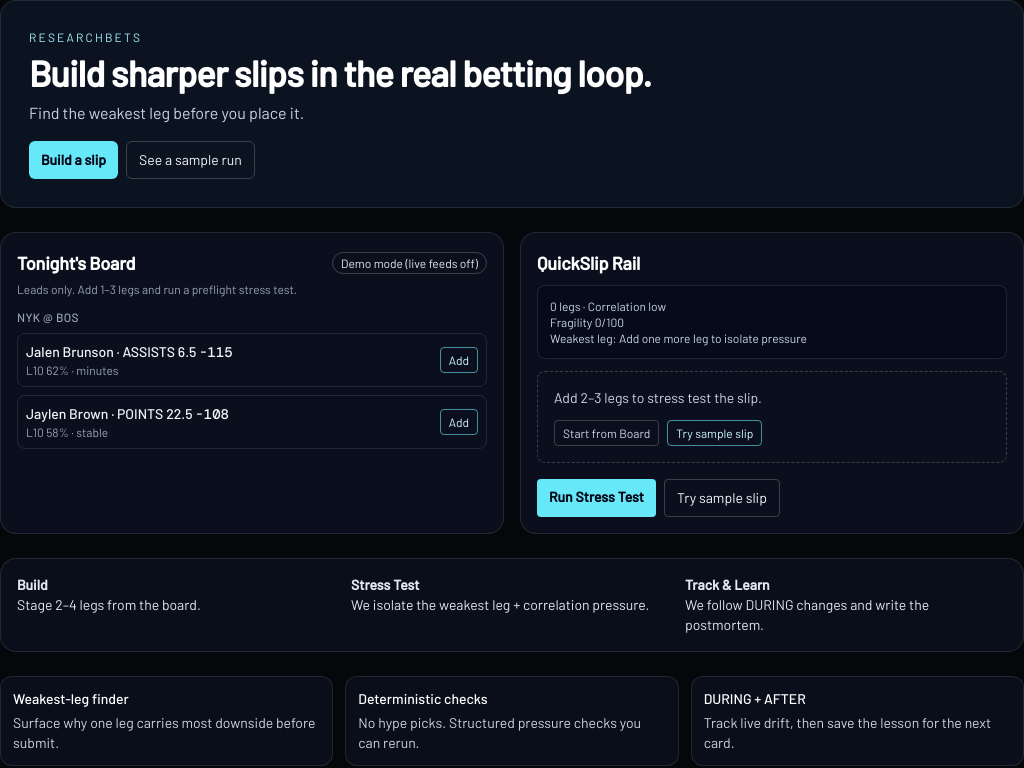
Scenario: HomeLandingClientV2 › adds board leg into the quick slip rail
Click the button "Add" in the row of "-115" at (459, 360), box [440,347,478,373]
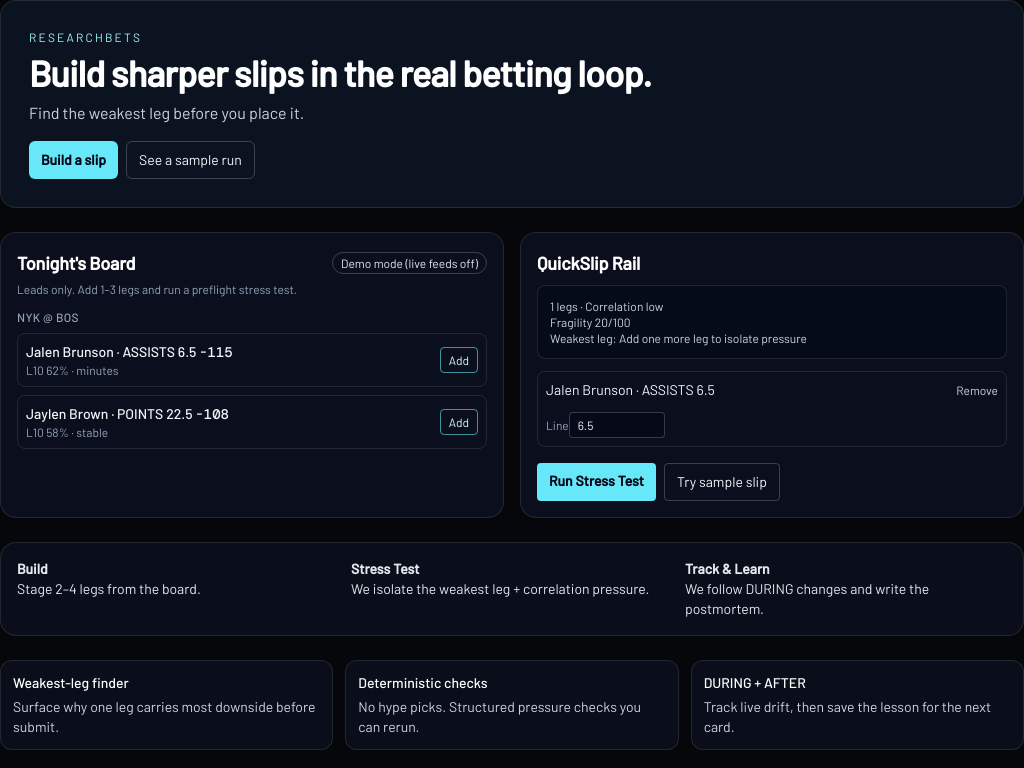
Expected: the element named "quick-slip-rail-mini" shows "Jalen Brunson", [546,381,633,398]
Expected: the button "Remove" is shown, [956,382,998,398]
